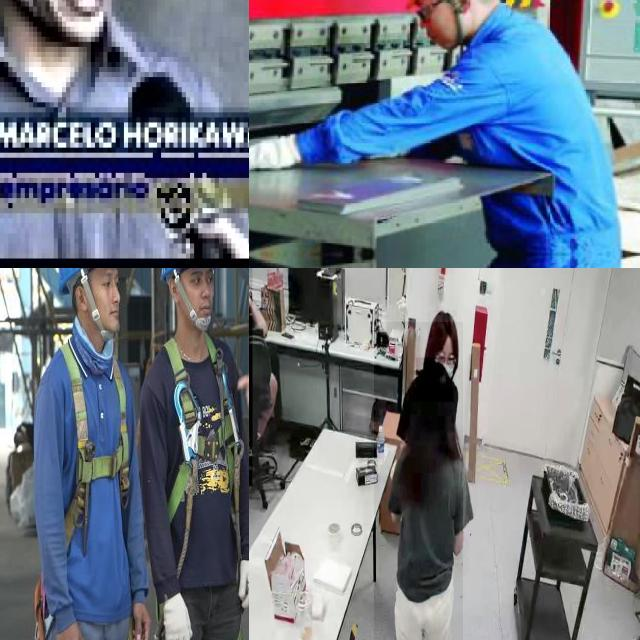Harness: (34, 331, 137, 640), (149, 331, 247, 640)
No_Ear-Protection: (166, 277, 182, 305), (74, 284, 90, 311), (456, 0, 472, 17)
No_Glasses: (185, 268, 218, 291), (95, 269, 125, 293)
face_nomask: (420, 7, 458, 49)
hand_glove: (249, 136, 300, 170)
head_nohelmet: (416, 357, 454, 403), (428, 310, 458, 339)
person: (374, 322, 463, 640)
